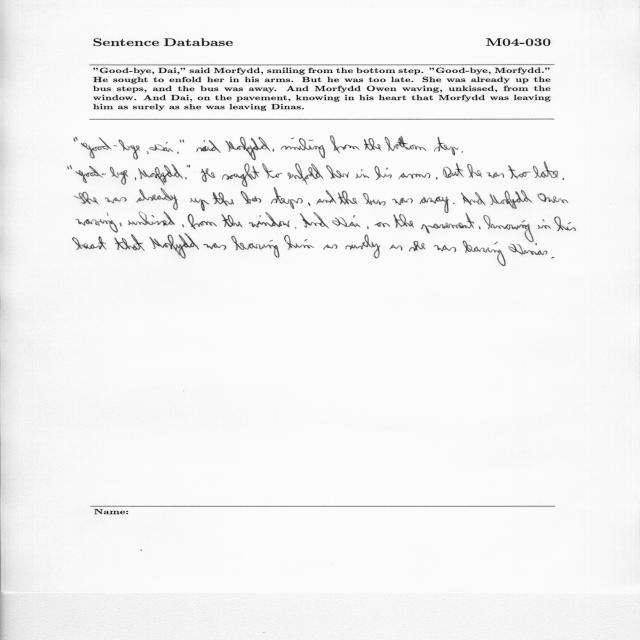word: (75, 164, 183, 186), (483, 215, 534, 242), (81, 138, 140, 160), (149, 234, 199, 259), (421, 213, 474, 234), (231, 236, 280, 258), (463, 241, 506, 266), (225, 137, 270, 160), (281, 138, 325, 159), (136, 188, 178, 210), (222, 163, 259, 187), (76, 213, 118, 233), (346, 235, 381, 259), (490, 190, 532, 209), (288, 163, 324, 185), (271, 187, 303, 209), (128, 212, 175, 226), (249, 212, 290, 228), (385, 136, 426, 151), (330, 136, 359, 154), (419, 196, 449, 213), (115, 234, 145, 251), (300, 212, 329, 229), (508, 243, 548, 255), (73, 236, 107, 250), (434, 137, 459, 156), (284, 235, 314, 250), (188, 214, 217, 229), (533, 162, 558, 178), (332, 215, 361, 227), (461, 192, 485, 206), (554, 216, 576, 231), (196, 140, 221, 153), (326, 165, 349, 179), (508, 165, 531, 179), (443, 163, 464, 178), (263, 164, 283, 179), (316, 190, 336, 205), (338, 190, 358, 205), (538, 193, 568, 203), (363, 193, 386, 206), (213, 192, 234, 206), (222, 214, 243, 228), (393, 214, 414, 228), (75, 192, 98, 204), (190, 198, 210, 211), (241, 191, 261, 204), (149, 142, 173, 152), (375, 166, 392, 180), (364, 138, 381, 151), (201, 168, 216, 182), (468, 164, 483, 178), (399, 173, 431, 179), (409, 241, 425, 252), (204, 243, 227, 250), (105, 197, 127, 204), (434, 245, 456, 252), (392, 198, 413, 205), (537, 219, 551, 229), (487, 172, 504, 178), (324, 244, 338, 250), (374, 222, 390, 227), (390, 245, 403, 251), (356, 174, 370, 179), (74, 137, 78, 142), (67, 165, 72, 169), (180, 140, 184, 143), (187, 164, 190, 168), (308, 203, 310, 207), (120, 223, 122, 227), (182, 224, 184, 228), (367, 226, 369, 230), (551, 257, 554, 259), (177, 152, 179, 154), (273, 148, 274, 152), (185, 177, 187, 179), (436, 177, 438, 179), (562, 178, 564, 180), (295, 227, 297, 229), (147, 151, 148, 154), (462, 151, 463, 153), (361, 169, 362, 171), (453, 203, 455, 204), (479, 227, 480, 229)
